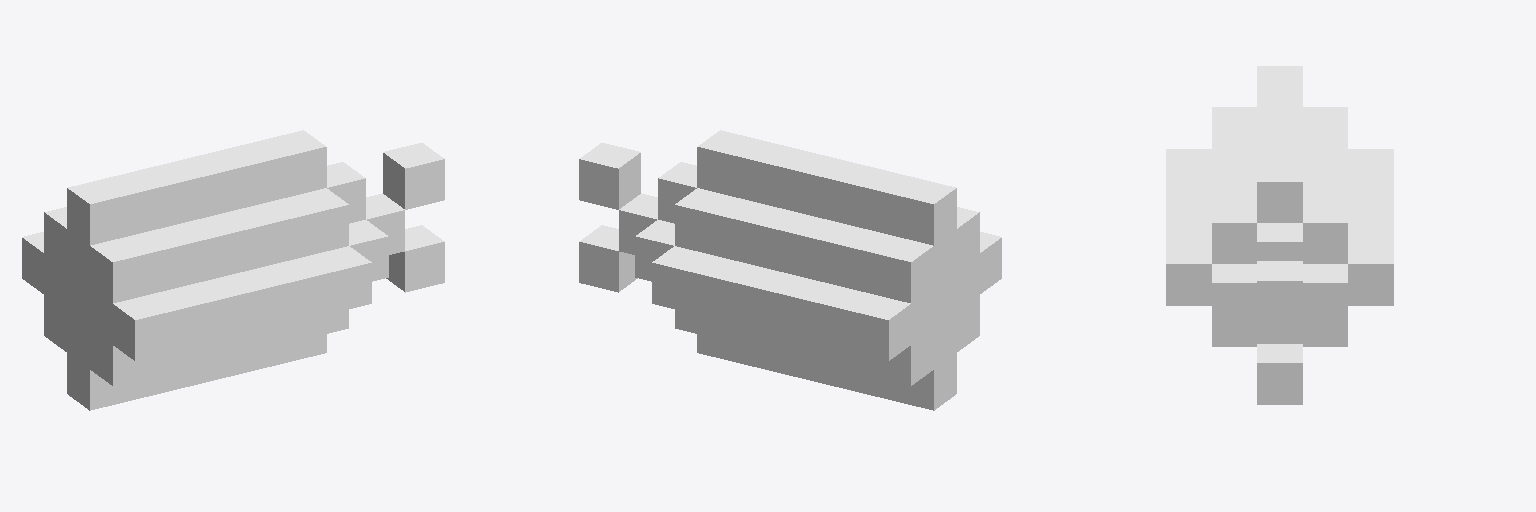
File: cubeland1-6.obj
3 views of the same model, side by side, from view 1: azimuth 30°, elevation 25°; view 2: azimuth 150°, elevation 25°; view 3: azimuth 270°, elevation 25° (orthographic).
Parts seen in each view (by area): view 1: object 1; view 2: object 1; view 3: object 1.
Part boxes in pixels (x1,y1,x2,y2): object 1: (22, 130, 444, 410); object 1: (579, 130, 1001, 410); object 1: (1166, 66, 1393, 404).
Size of the model in its own units: 0.9 by 0.5 by 0.5.